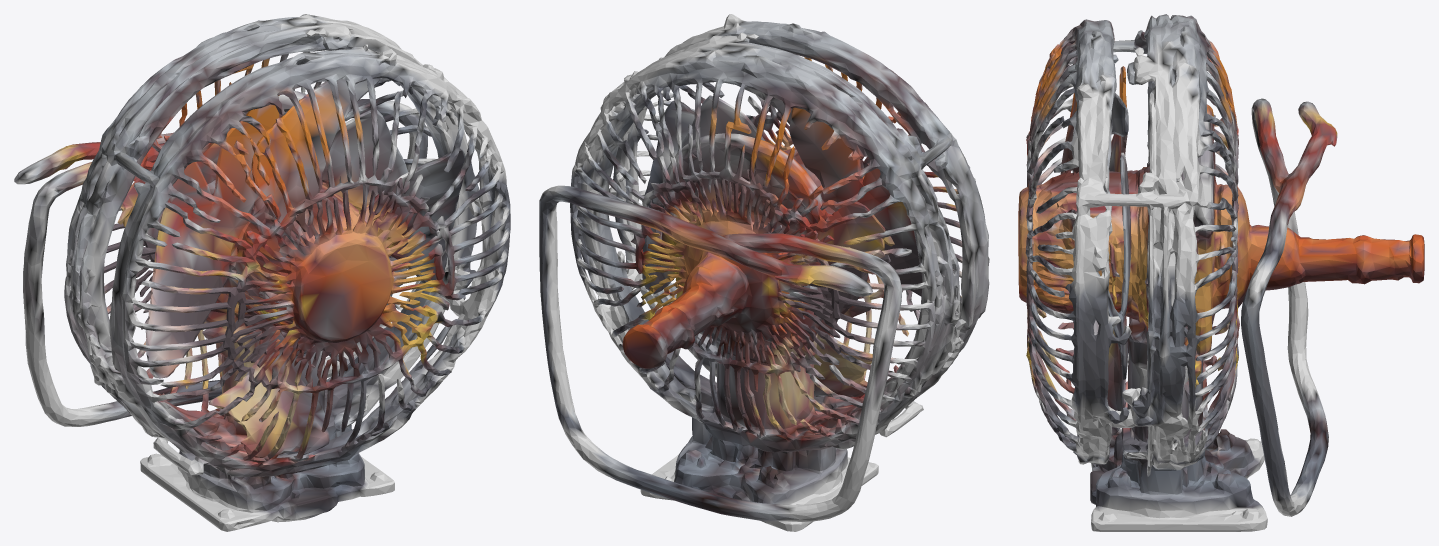
File: machine.glb
The picture shows the model from 3 angles, left to right: view 1: azimuth 30°, elevation 25°; view 2: azimuth 150°, elevation 25°; view 3: azimuth 270°, elevation 25°; orthographic projection. The views are drawn at different scales.
Visible parts, largest first — view 1: tmpwe2ohow5.ply; view 2: tmpwe2ohow5.ply; view 3: tmpwe2ohow5.ply.
Part boxes in pixels (x1,y1,x2,y2): tmpwe2ohow5.ply: [14, 14, 510, 531]; tmpwe2ohow5.ply: [539, 14, 989, 531]; tmpwe2ohow5.ply: [1018, 14, 1424, 531].
Bounding box in the file's own units: 1.76 × 1.99 × 1.56.
